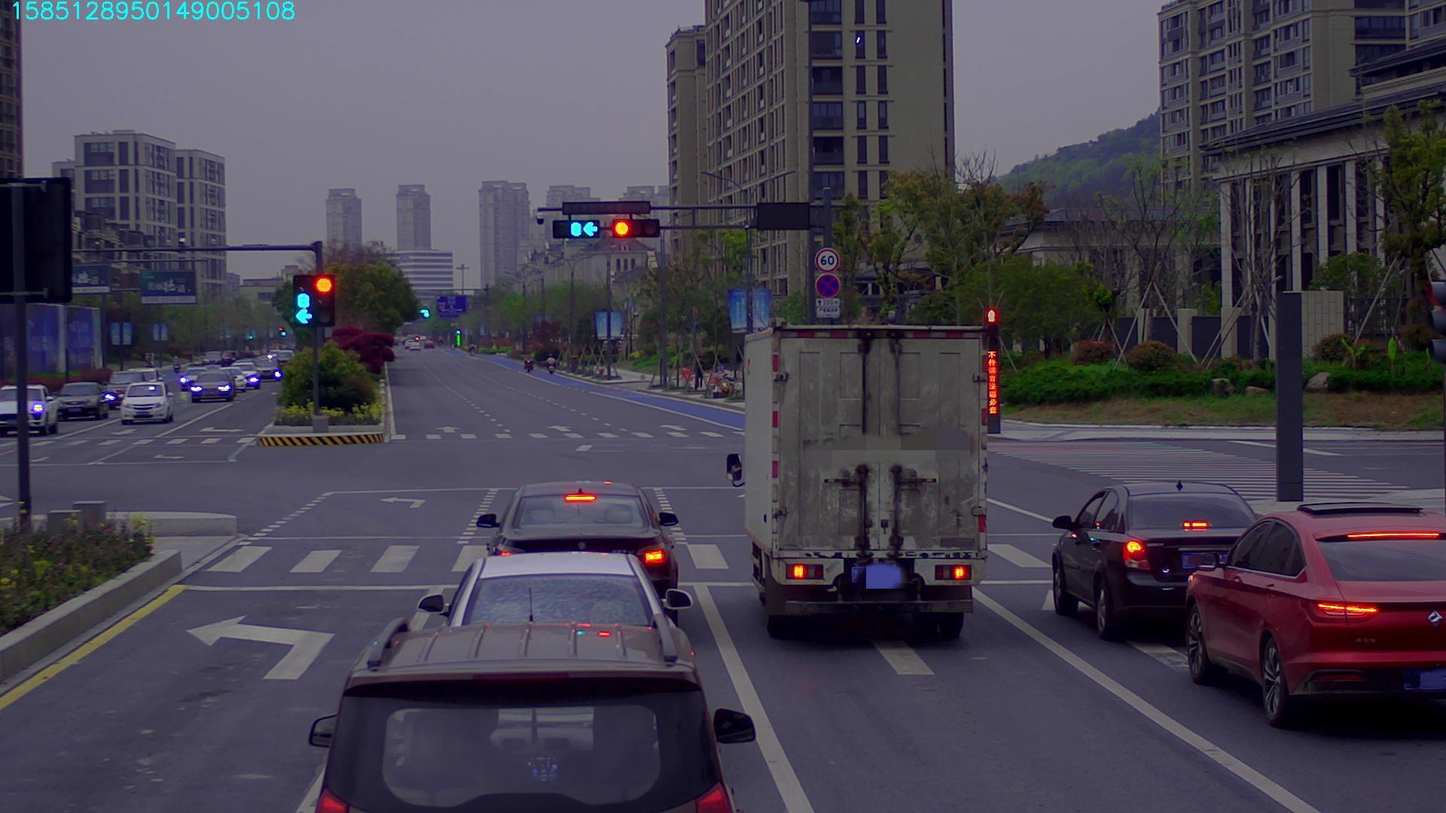green: (554, 220, 600, 239)
red: (613, 220, 656, 235)
